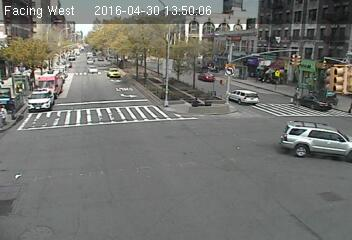neg: (157, 90, 173, 110), (49, 63, 64, 83), (204, 90, 218, 108), (302, 124, 316, 142), (108, 90, 119, 105), (154, 70, 164, 83)
pos: (289, 88, 303, 107)
